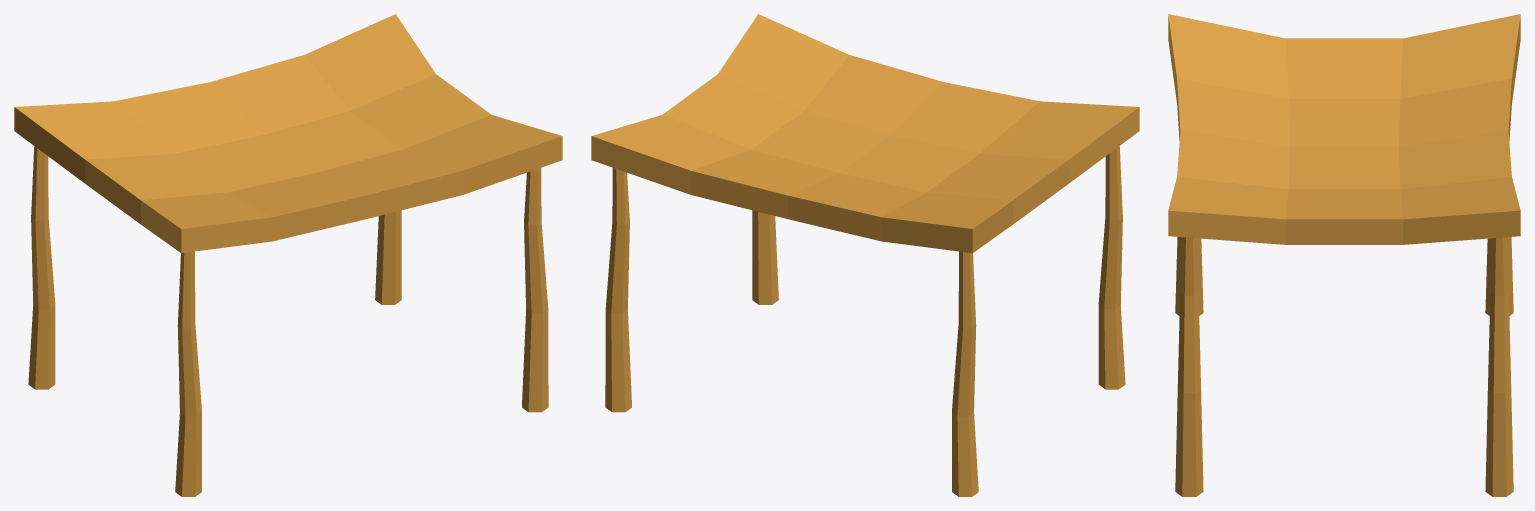
File: egypt-stand.fbx
The picture shows the model from 3 angles, left to right: view 1: azimuth 30°, elevation 25°; view 2: azimuth 150°, elevation 25°; view 3: azimuth 270°, elevation 25°; orthographic projection. The views are drawn at different scales.
Parts seen in each view (by area): view 1: egypt-stand; view 2: egypt-stand; view 3: egypt-stand.
Boxes of the visible parts, box(x1,y1,x2,y2) form: egypt-stand: box(14, 14, 562, 496); egypt-stand: box(591, 14, 1139, 496); egypt-stand: box(1168, 14, 1520, 496).
Size of the model in its own units: 3.3 by 2.27 by 2.5.
